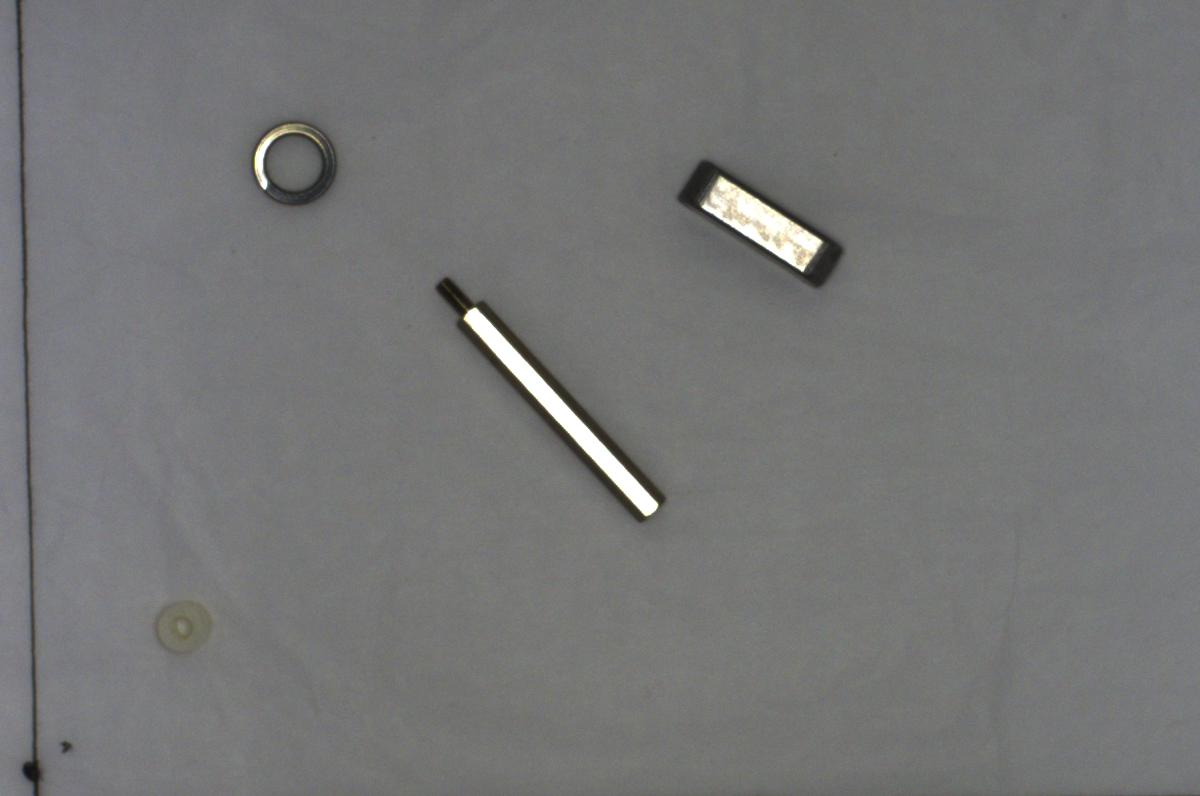Hexagonal steel column: (419, 265, 677, 534)
Keybar: (670, 152, 848, 294)
Plastic cushion pillar: (150, 594, 215, 659)
Spring washer: (241, 112, 342, 210)
